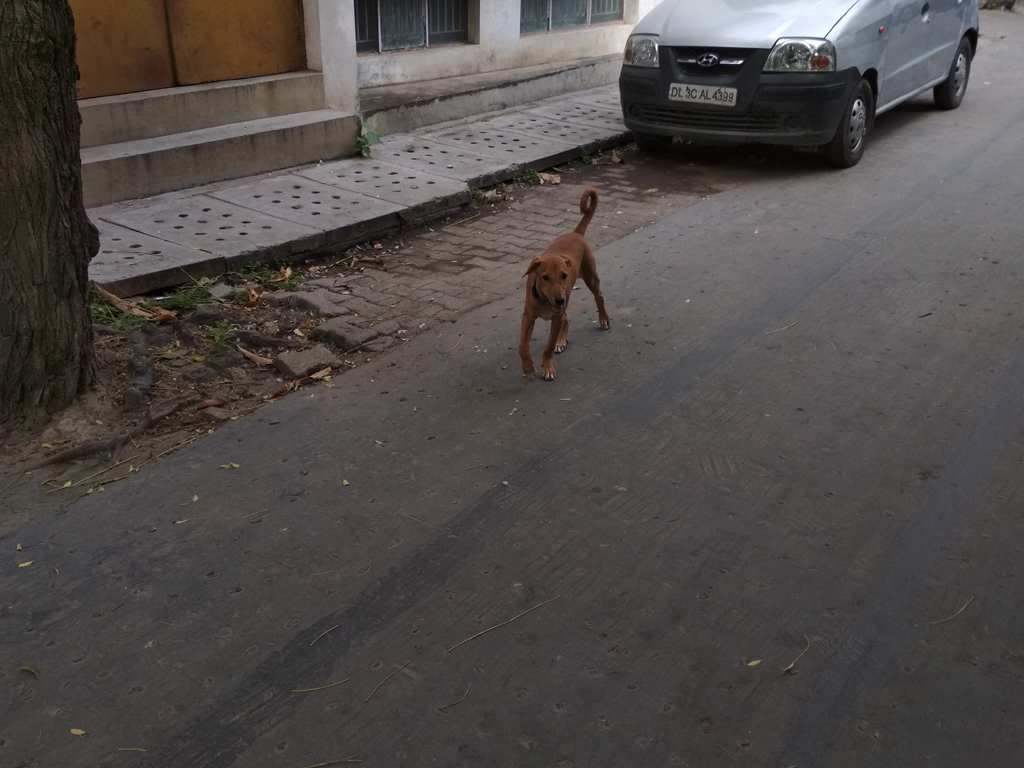dog: (518, 188, 611, 379)
